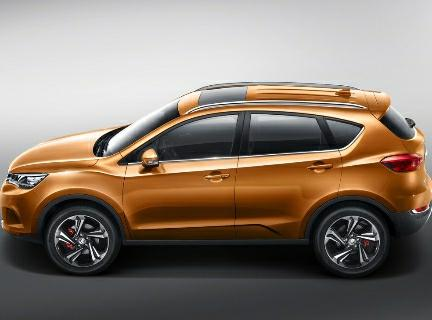car: (1, 71, 431, 282)
